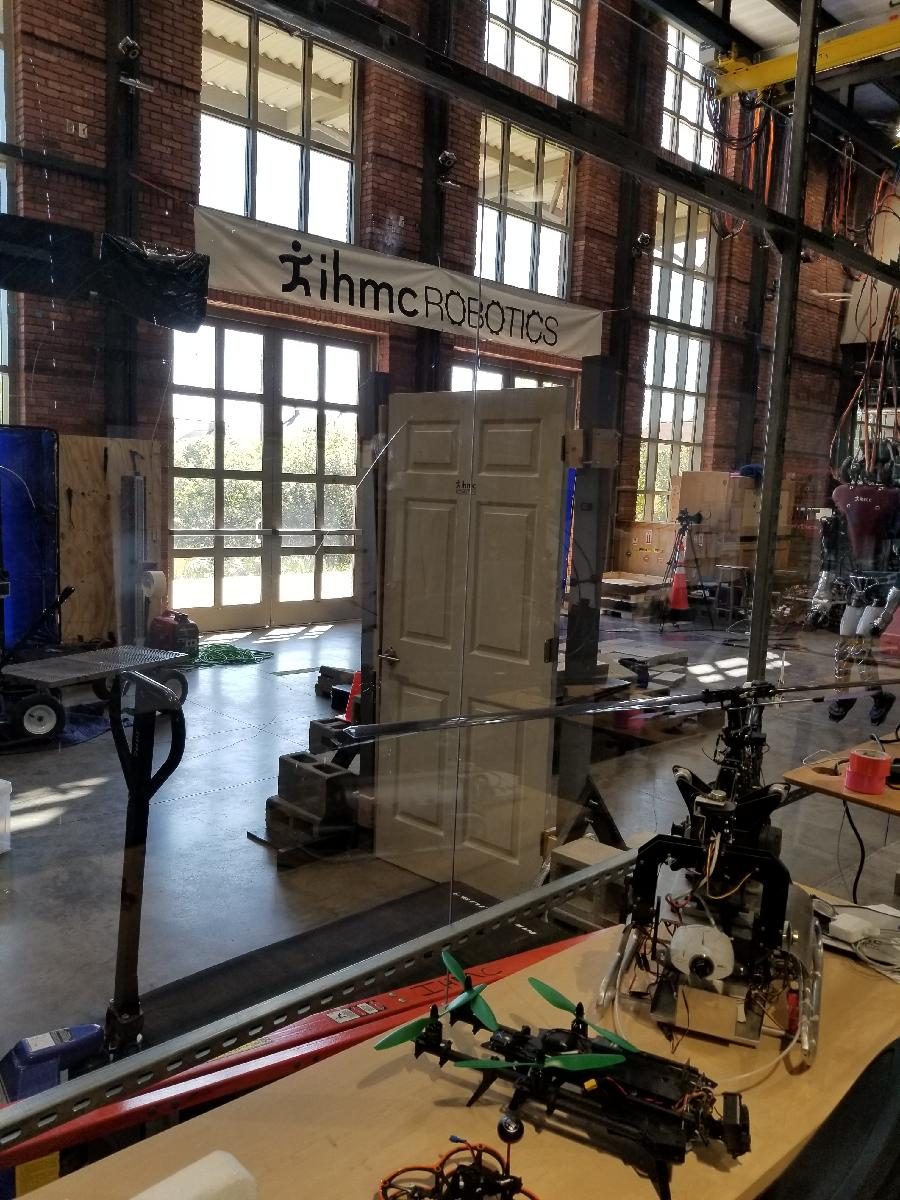door: (372, 382, 572, 925)
doorHandle: (376, 650, 403, 670)
